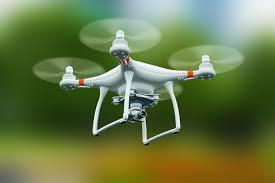drone: (58, 29, 215, 146)
